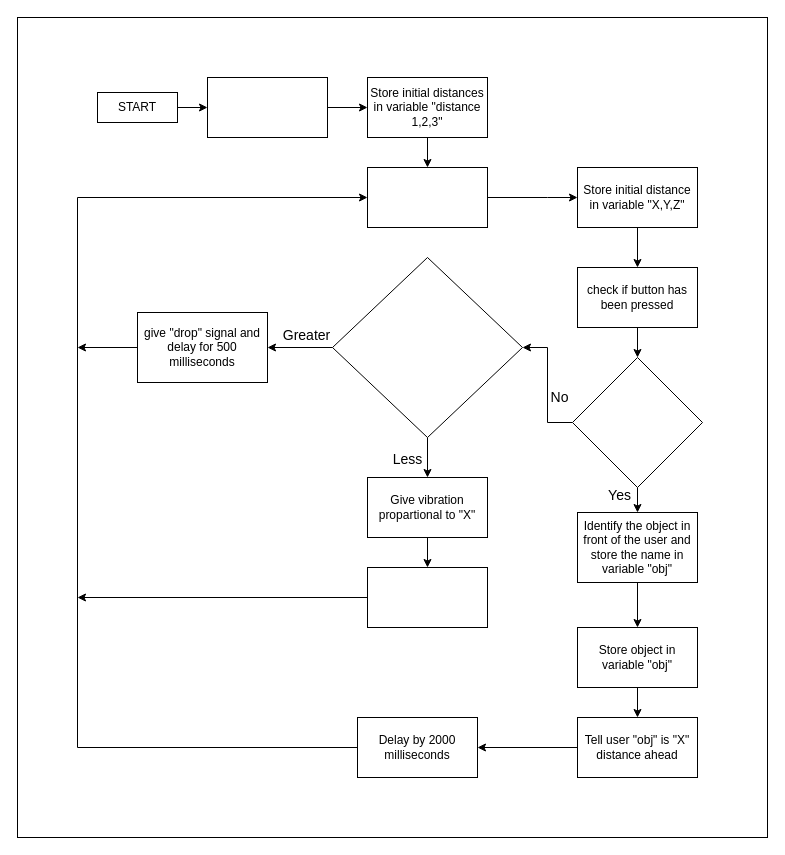
This 785x855 diagram has some shape labels left out. The centre of each missing label's shape, as x and y in pixels:
Check distance to the ground: point (427, 197)
Check initial distances to the ground: point (267, 107)
Give delay propartional to "X": point (427, 597)
Has button been pressed?: point (637, 422)
Is "X,Y,Z" greater or less than "distance"?: point (427, 347)
